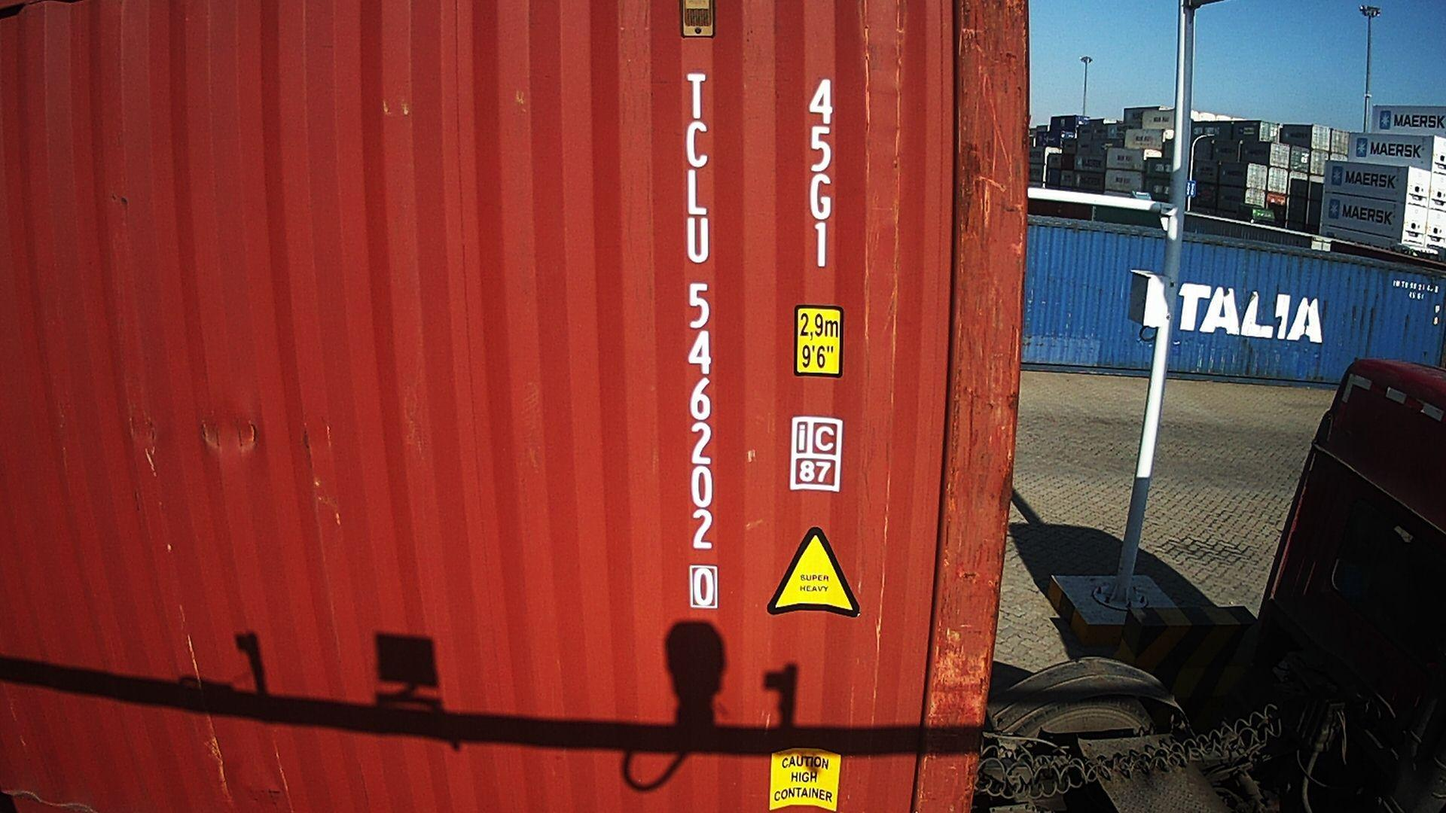container-numbers: (676, 68, 725, 614), (801, 73, 840, 277)
